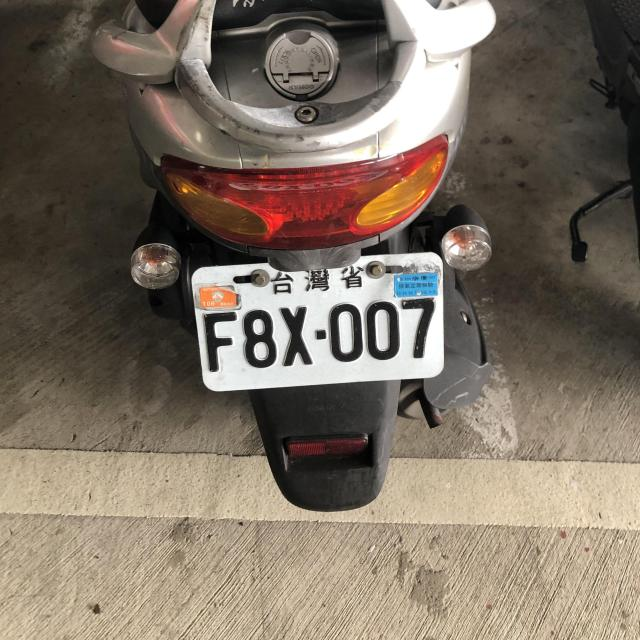W: (186, 247, 448, 394)
